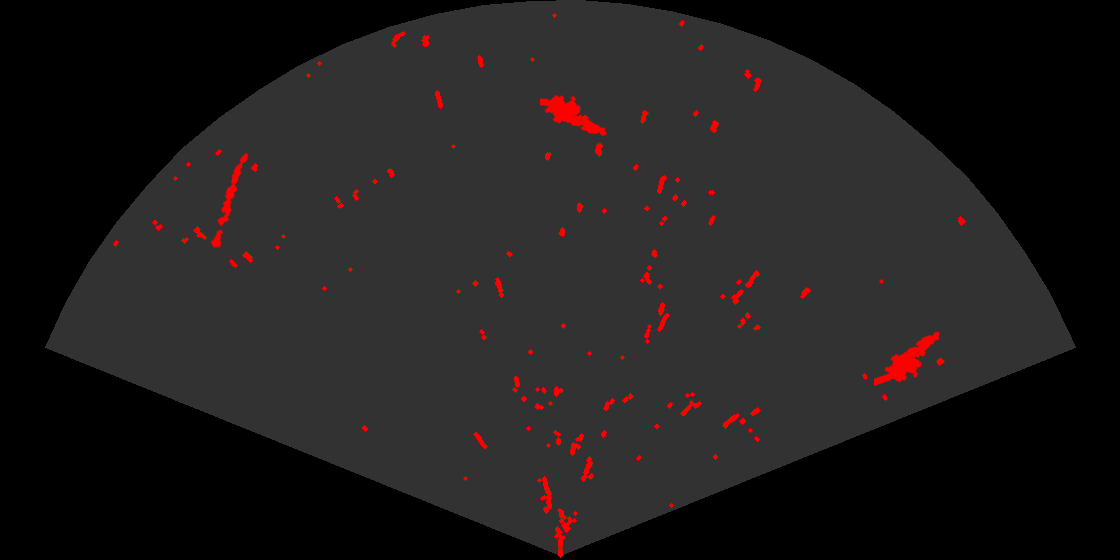chain: (209, 151, 250, 250)
frogman: (874, 330, 942, 387), (540, 94, 609, 137)
